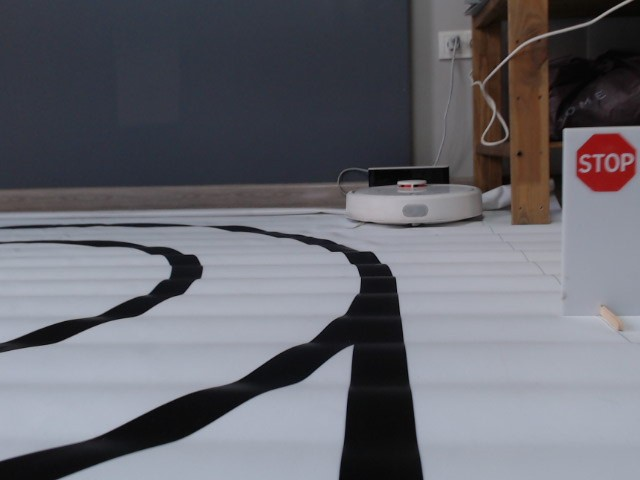Stop: (573, 130, 638, 194)
